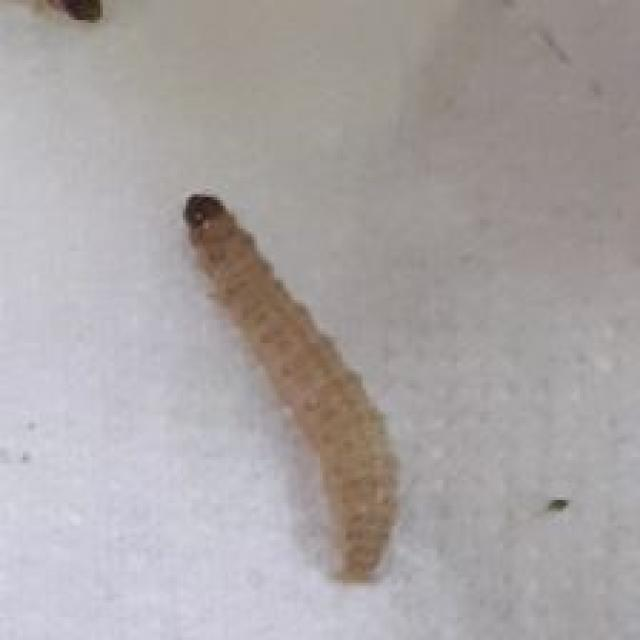white mucus: (154, 188, 456, 591)
